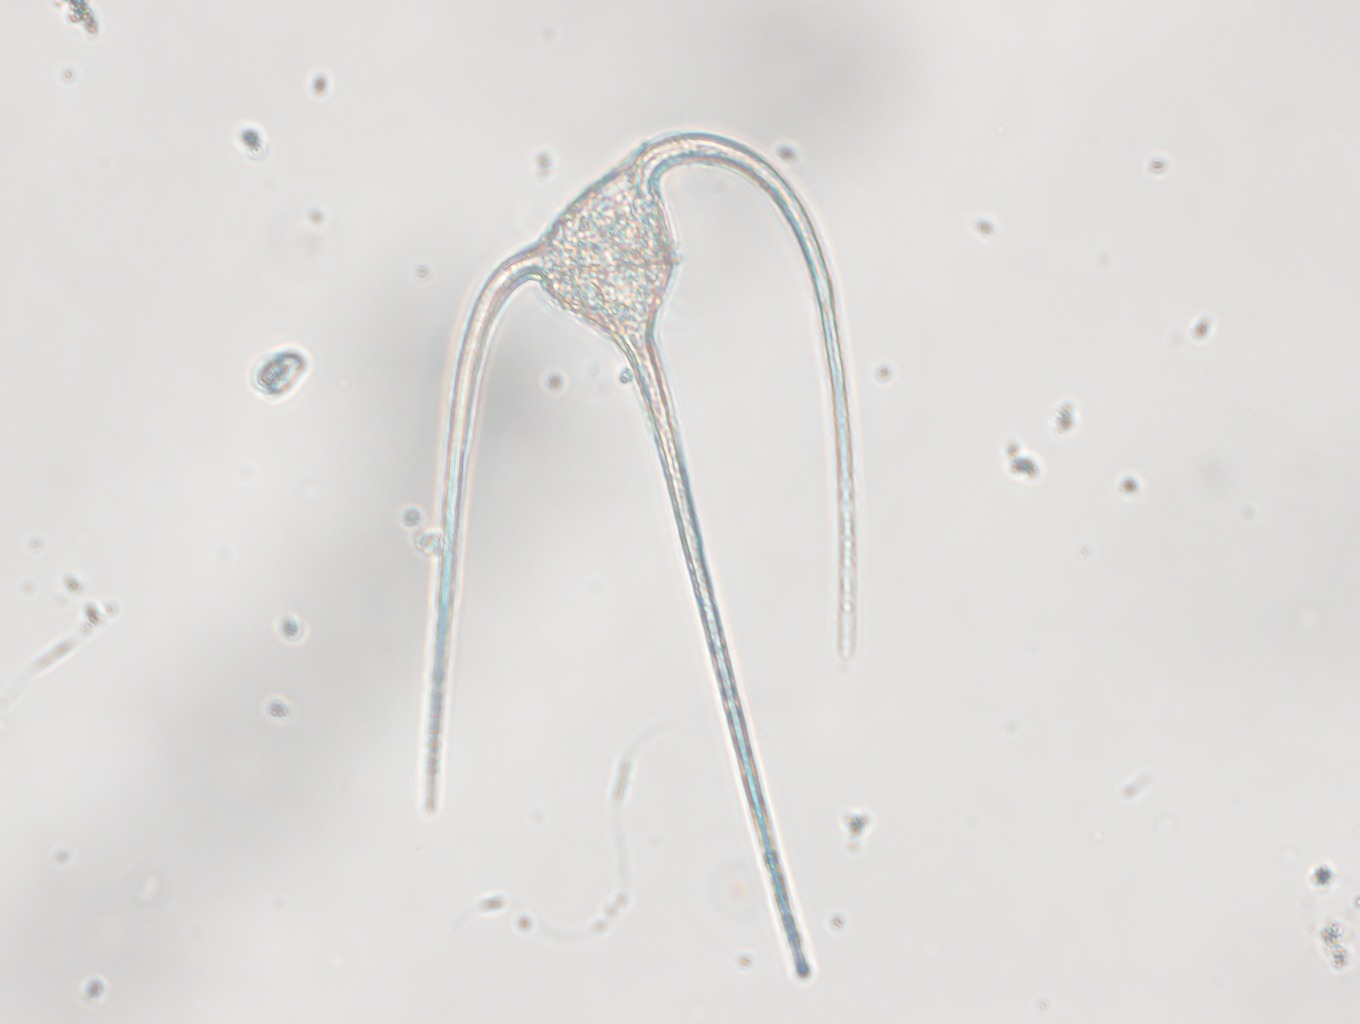ceratium trichoceros: (424, 131, 854, 980)
